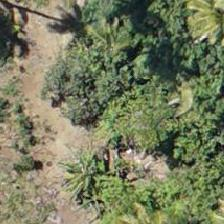coconut_tree: (69, 0, 159, 81), (177, 0, 223, 57)
